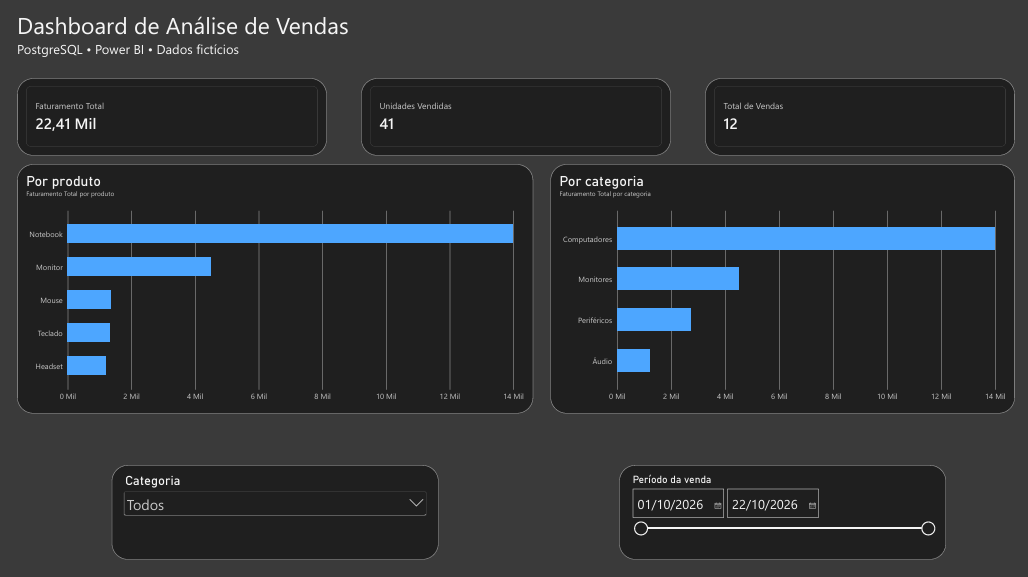

What the dashboard file says about the page in this screenshot:
{"tool":"powerbi","page":{"name":"Página 1","canvas":[1920,1080],"ordinal":0},"visuals":[{"type":"cardVisual","fields":{"Data":["public vendas.Faturamento Total"]},"box":[32,144,576,144],"z":0},{"type":"cardVisual","fields":{"Data":["public vendas.Total de Vendas"]},"box":[1312,144,576,144],"z":1000},{"type":"cardVisual","fields":{"Data":["public vendas.Unidades Vendidas"]},"box":[672,144,576,144],"z":2000},{"type":"barChart","title":"Por produto","fields":{"Category":["public produtos.nome"],"Y":["public vendas.Faturamento Total"]},"box":[32,304,960,464],"z":3000},{"type":"barChart","title":"Por categoria","fields":{"Category":["public produtos.categoria"],"Y":["public vendas.Faturamento Total"]},"box":[1024,304,864,464],"z":4000},{"type":"slicer","fields":{"Values":["public produtos.categoria"]},"box":[208,864,608,176],"z":5000},{"type":"slicer","fields":{"Values":["public vendas.data_venda"]},"box":[1152,864,608,176],"z":6000},{"type":"textbox","box":[32,16,1856,112],"z":7000}]}

Visuals, with their boxes in screenshot pixels (x1, y1, x2, y2), scaled from the page's 1920x1080 canvas onto the 1028x577 screenshot:
cardVisual - public vendas.Faturamento Total: bbox=[17, 77, 326, 154]
cardVisual - public vendas.Total de Vendas: bbox=[702, 77, 1011, 154]
cardVisual - public vendas.Unidades Vendidas: bbox=[360, 77, 668, 154]
"Por produto" barChart: bbox=[17, 162, 531, 410]
"Por categoria" barChart: bbox=[548, 162, 1011, 410]
slicer - public produtos.categoria: bbox=[111, 462, 437, 556]
slicer - public vendas.data_venda: bbox=[617, 462, 942, 556]
textbox: bbox=[17, 9, 1011, 68]
